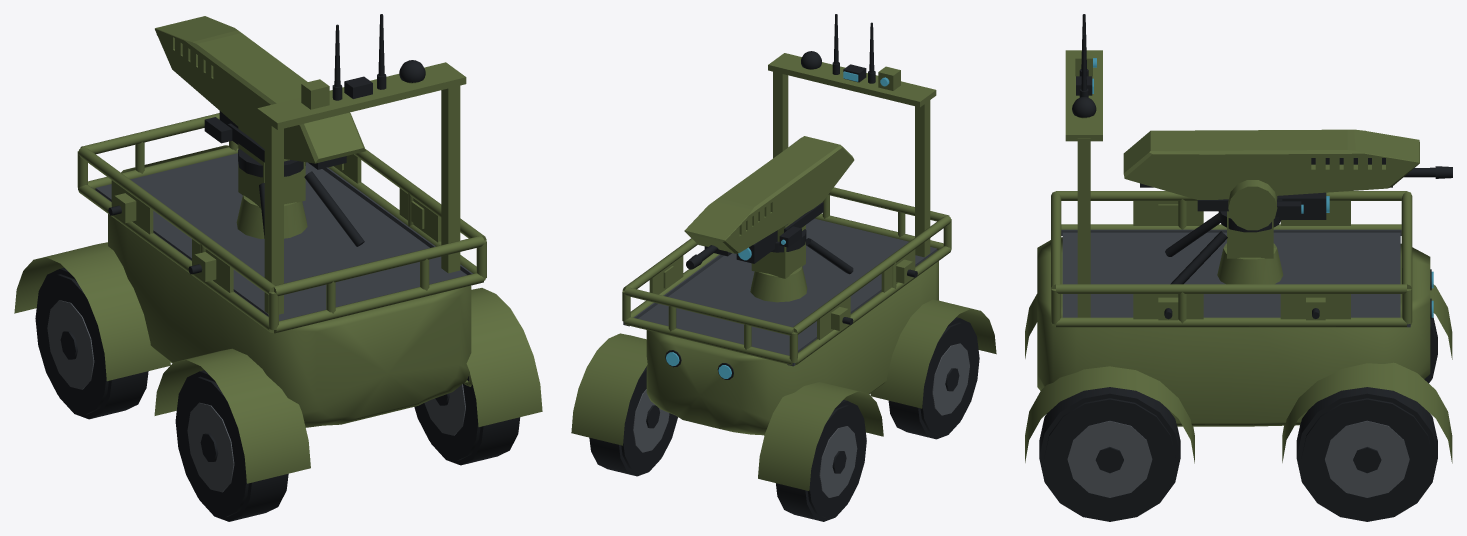
Rendered from ugv-2.glb.
3 views of the same model, side by side, from view 1: azimuth 30°, elevation 25°; view 2: azimuth 150°, elevation 25°; view 3: azimuth 270°, elevation 25° (orthographic). The views are drawn at different scales.
Visible parts, largest first — view 1: Mesh_13, Mesh_16, Mesh_14, Mesh_9, Mesh_0, Mesh_2, Mesh_6, Mesh_13.002, Mesh_15, Mesh_13.001, Mesh_11, Mesh_1 (+4 smaller); view 2: Mesh_13, Mesh_16, Mesh_14, Mesh_9, Mesh_2, Mesh_0, Mesh_4, Mesh_11, Mesh_13.001, Mesh_15, Mesh_3, Mesh_1 (+4 smaller); view 3: Mesh_13, Mesh_9, Mesh_14, Mesh_6, Mesh_4, Mesh_16, Mesh_5, Mesh_7, Mesh_11, Mesh_15, Mesh_8, Mesh_13.002.
Boxes of the visible parts, x1,y1,x2,y2 form: Mesh_13: (77, 62, 486, 427); Mesh_16: (14, 242, 542, 483); Mesh_14: (91, 153, 472, 320); Mesh_9: (155, 16, 365, 163); Mesh_0: (35, 267, 148, 419); Mesh_2: (175, 370, 288, 521); Mesh_6: (414, 376, 520, 465); Mesh_13.002: (441, 85, 460, 273); Mesh_15: (108, 14, 425, 274); Mesh_13.001: (264, 121, 283, 314); Mesh_11: (236, 127, 307, 238); Mesh_1: (47, 300, 94, 389); Mesh_13: (622, 53, 951, 435); Mesh_16: (571, 299, 996, 490); Mesh_14: (623, 218, 940, 366); Mesh_9: (684, 136, 854, 253); Mesh_2: (888, 317, 979, 439); Mesh_0: (776, 400, 866, 521); Mesh_4: (589, 366, 677, 476); Mesh_11: (750, 214, 807, 302); Mesh_13.001: (915, 100, 930, 257); Mesh_15: (665, 14, 917, 379); Mesh_3: (932, 343, 969, 415); Mesh_1: (819, 426, 857, 497); Mesh_13: (1037, 50, 1430, 426); Mesh_9: (1123, 129, 1419, 230); Mesh_14: (1061, 229, 1410, 327); Mesh_6: (1039, 387, 1180, 521); Mesh_4: (1296, 387, 1437, 521); Mesh_16: (1025, 284, 1452, 463); Mesh_5: (1325, 420, 1409, 497); Mesh_7: (1067, 421, 1152, 497); Mesh_11: (1217, 211, 1283, 284); Mesh_15: (1072, 14, 1431, 319); Mesh_8: (1140, 158, 1452, 219); Mesh_13.002: (1077, 138, 1090, 317).
Bounding box in the file's own units: 1.34 × 2.06 × 1.83.
